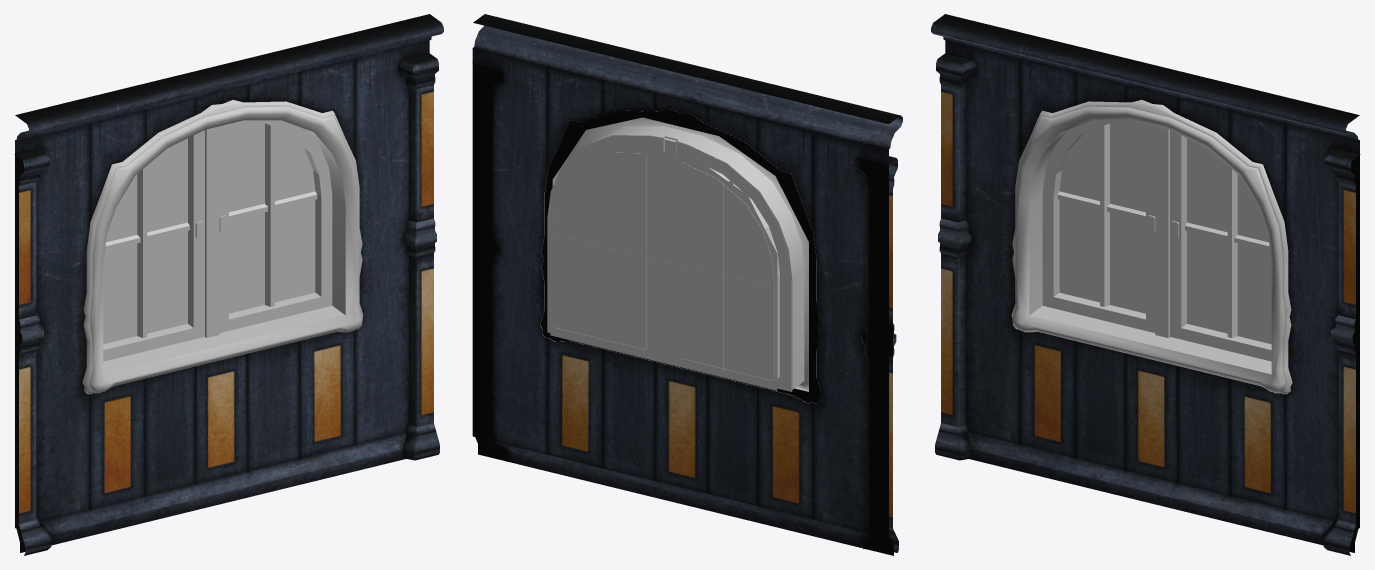
Rendered from window02_yellow_blue.dae.
3 views of the same model, side by side, from view 1: azimuth 30°, elevation 25°; view 2: azimuth 150°, elevation 25°; view 3: azimuth 330°, elevation 25° (orthographic).
Parts seen in each view (by area): view 1: mansionbase02_window, mansionbase_window_frame1, mansionbase_window_blue; view 2: mansionbase02_window, mansionbase_window_blue, mansionbase_window_frame1; view 3: mansionbase02_window, mansionbase_window_frame1, mansionbase_window_blue.
Boxes of the visible parts, x1=… form: mansionbase02_window: x1=14, y1=14, x2=443, y2=555; mansionbase_window_frame1: x1=82, y1=100, x2=363, y2=394; mansionbase_window_blue: x1=103, y1=123, x2=315, y2=344; mansionbase02_window: x1=472, y1=14, x2=902, y2=555; mansionbase_window_blue: x1=550, y1=143, x2=777, y2=390; mansionbase_window_frame1: x1=540, y1=110, x2=819, y2=403; mansionbase02_window: x1=931, y1=14, x2=1360, y2=555; mansionbase_window_frame1: x1=1011, y1=100, x2=1292, y2=394; mansionbase_window_blue: x1=1059, y1=123, x2=1271, y2=344.
Bounding box in the file's own units: 4 × 4 × 0.5209.
